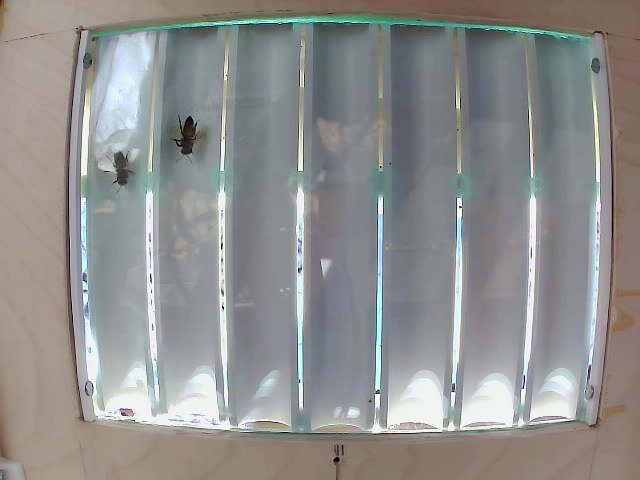bee: (103, 140, 147, 208), (170, 110, 213, 149)
